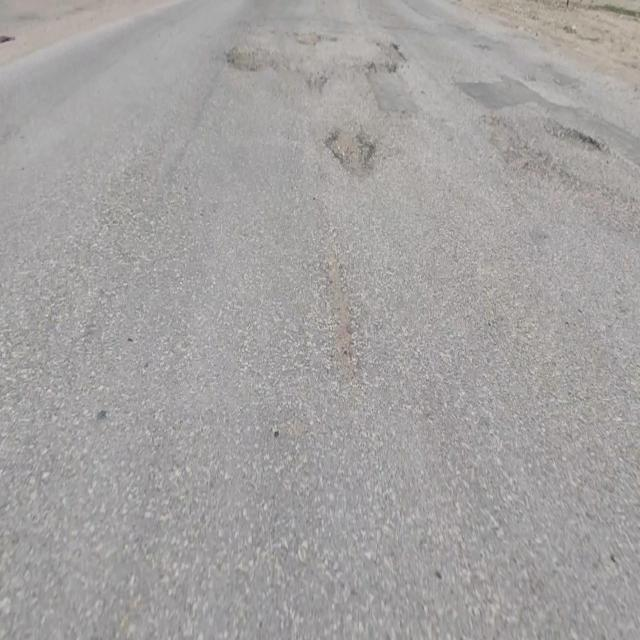Potholes: (326, 124, 379, 173), (226, 44, 288, 75), (366, 40, 408, 77), (295, 30, 339, 47), (308, 69, 330, 97)
